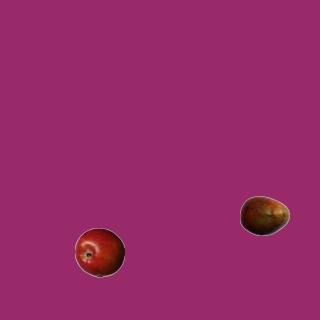Apple Braeburn: (74, 227, 124, 277)
Mango Red: (239, 190, 289, 240)
